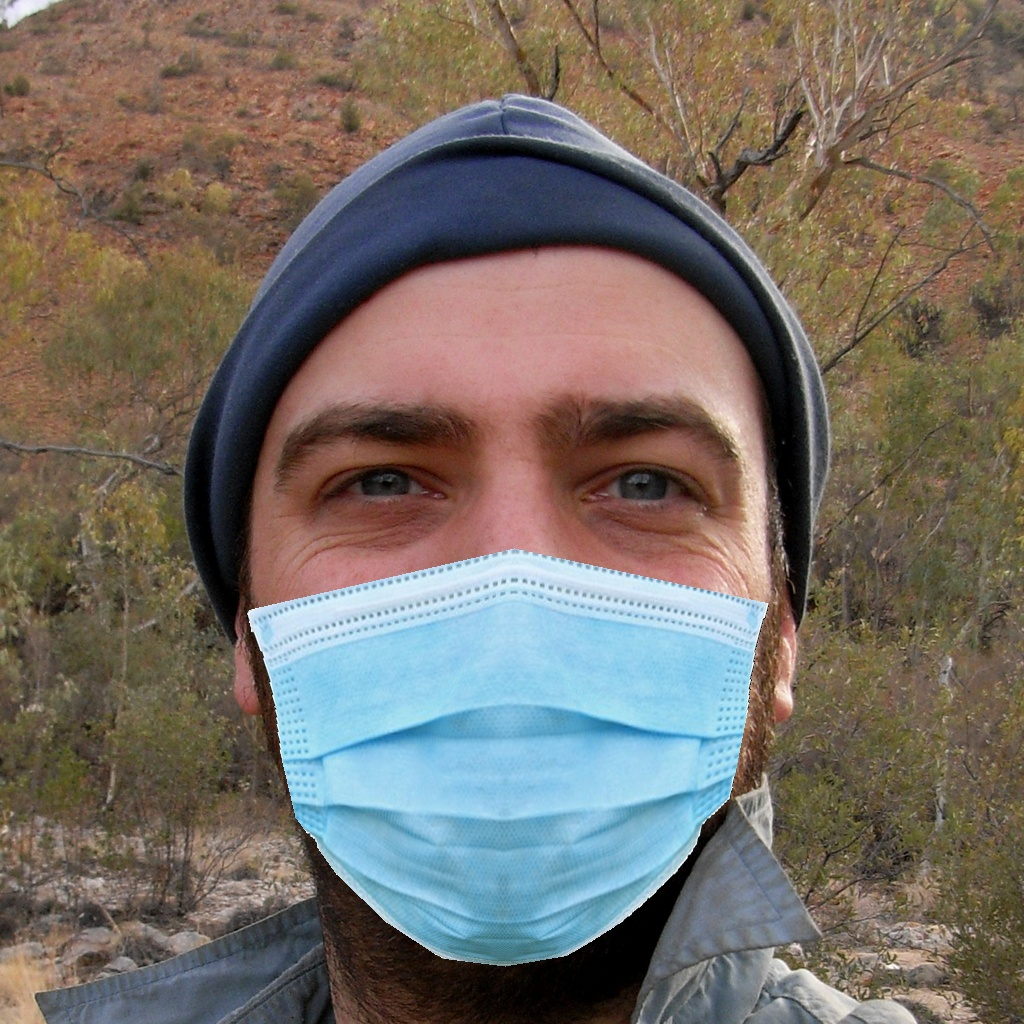Mask: (240, 377, 772, 974)
